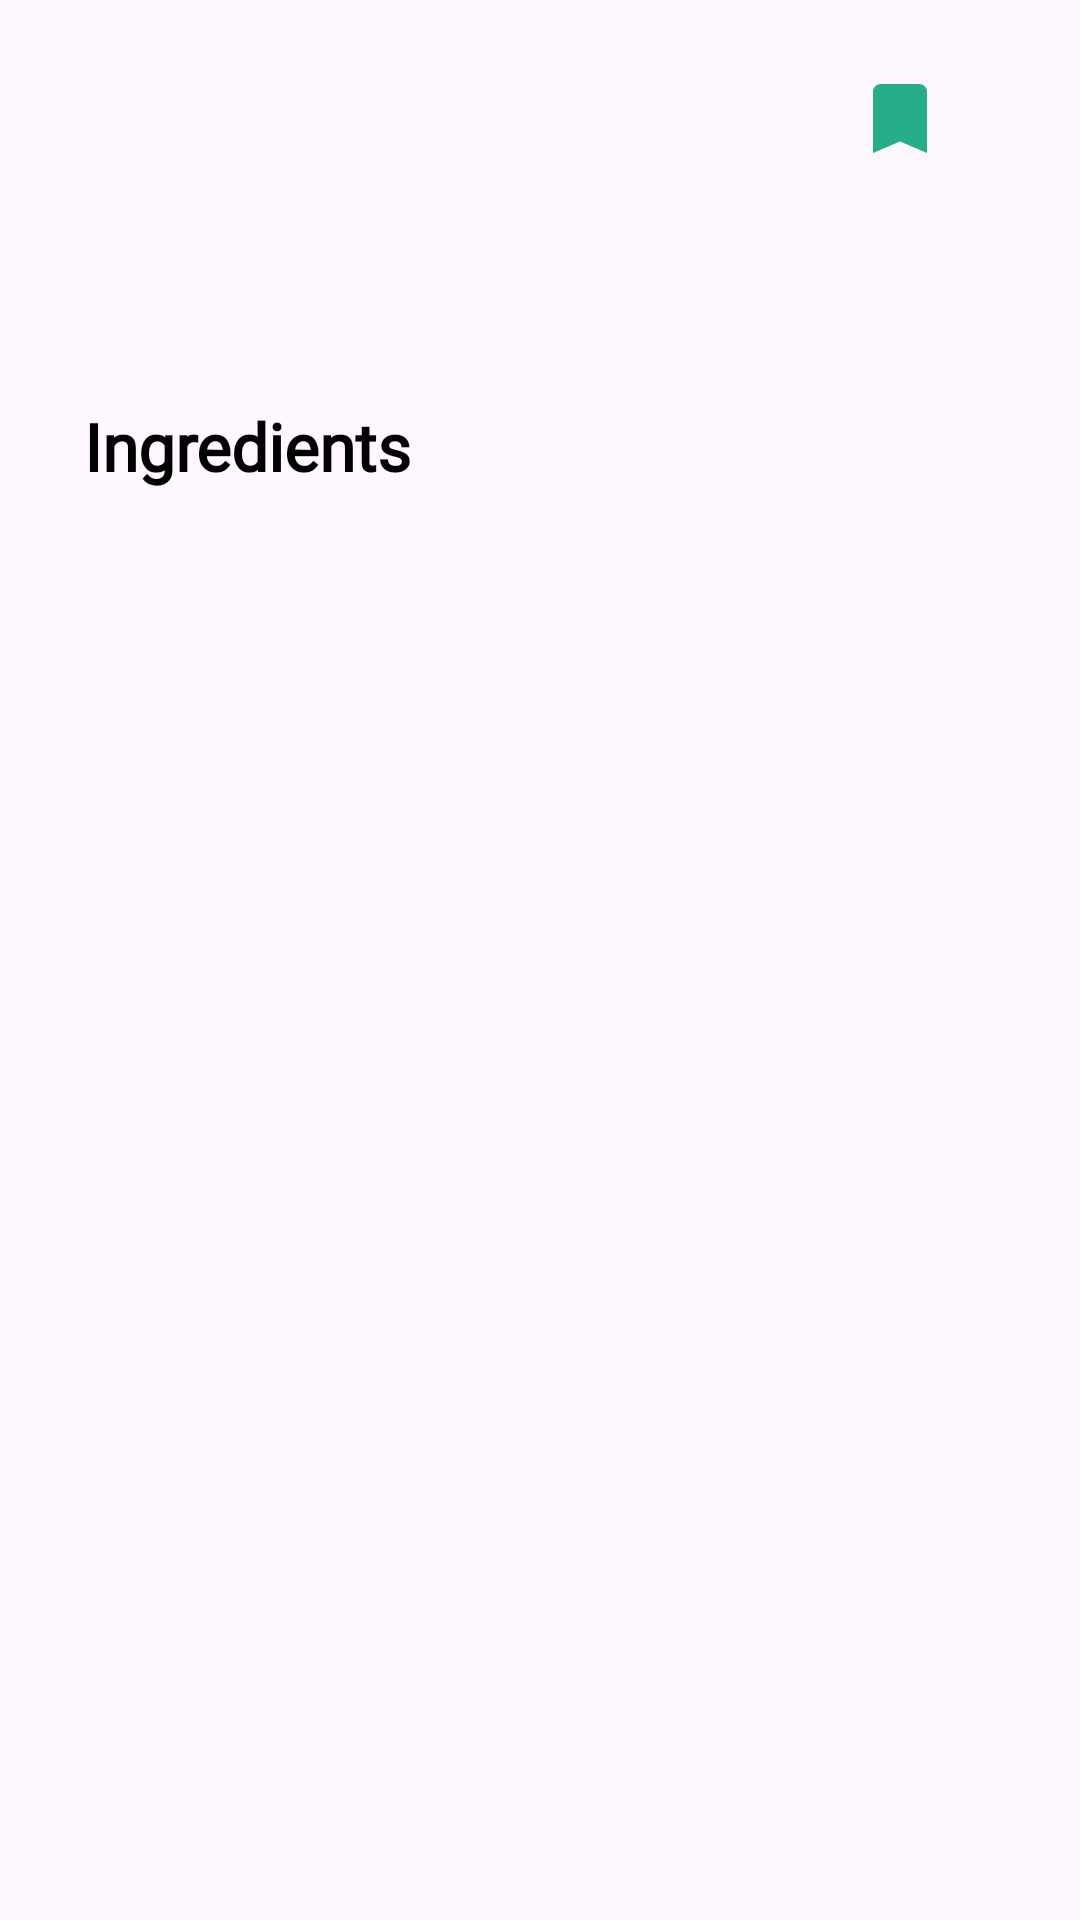

Named icons in this screenshot (1080×1920) and their bounding boxes, (x1, y1, x2, y2):
saved: (873, 84, 927, 153)
